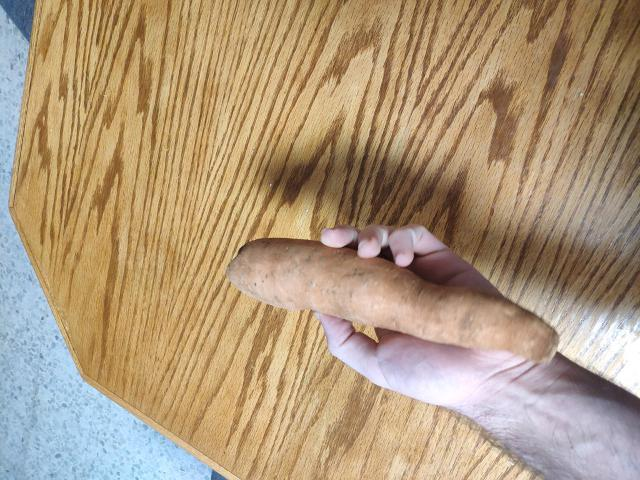sweet_potato: (219, 230, 544, 350)
